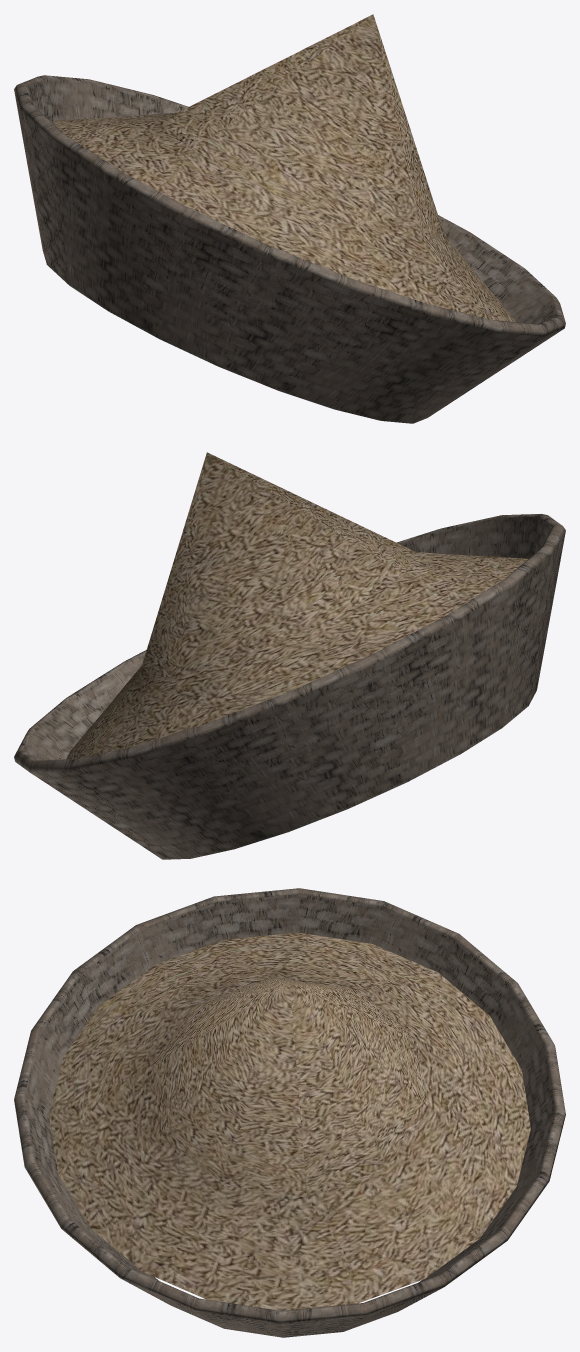
The model's file is Wicker_Basket_01_5.glb.
3 renders of one model, top to bottom at view 1: azimuth 30°, elevation 25°; view 2: azimuth 150°, elevation 25°; view 3: azimuth 270°, elevation 25°, orthographic. The views are drawn at different scales.
Visible parts, largest first — view 1: Wicker_Basket_01.022; view 2: Wicker_Basket_01.022; view 3: Wicker_Basket_01.022.
Boxes of the visible parts, <box> form: Wicker_Basket_01.022: <box>14,14,565,423</box>; Wicker_Basket_01.022: <box>14,452,565,859</box>; Wicker_Basket_01.022: <box>14,888,565,1337</box>.
Bounding box in the file's own units: 0.4022 × 0.3073 × 0.4492.
2 materials, 2 textured.
